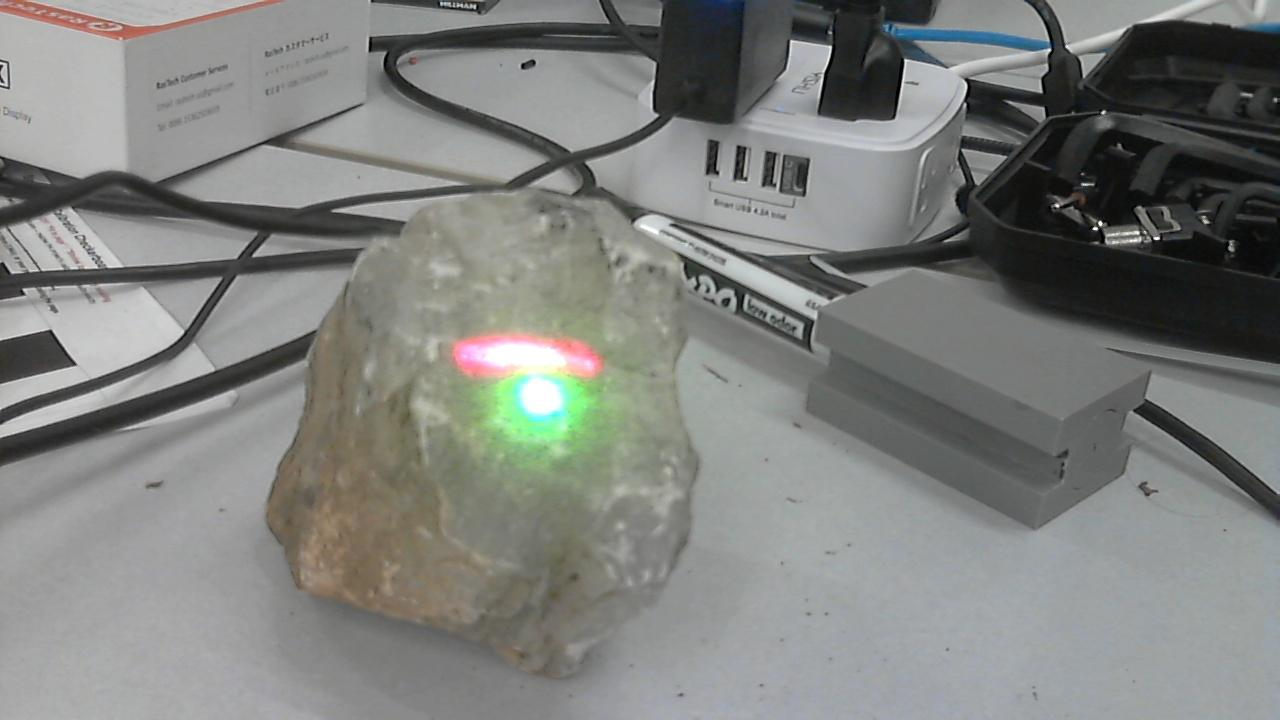Object rock - Material stone - Pdfname as35as4adsa: (444, 325, 607, 449)
